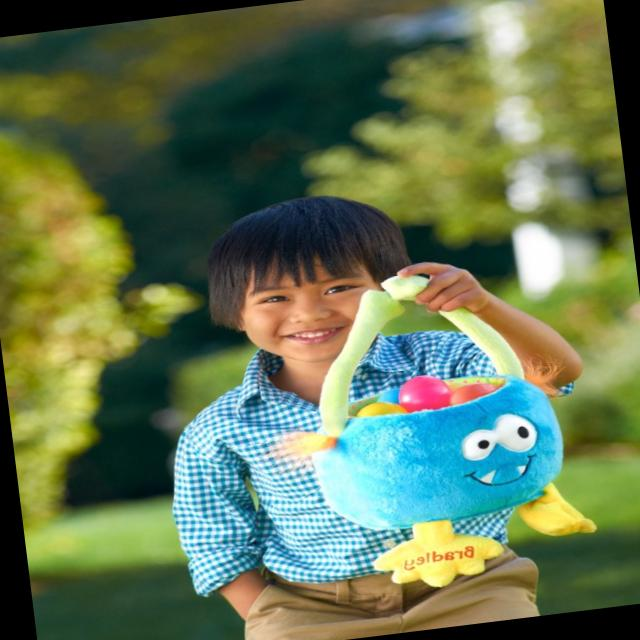Toy: (244, 244, 622, 618)
